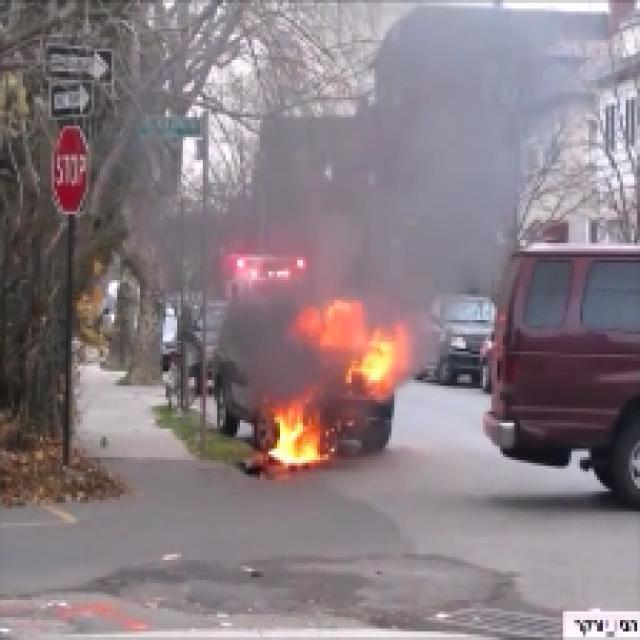Fire: (314, 308, 401, 380), (272, 410, 326, 463)
Smoke: (276, 40, 488, 308)
